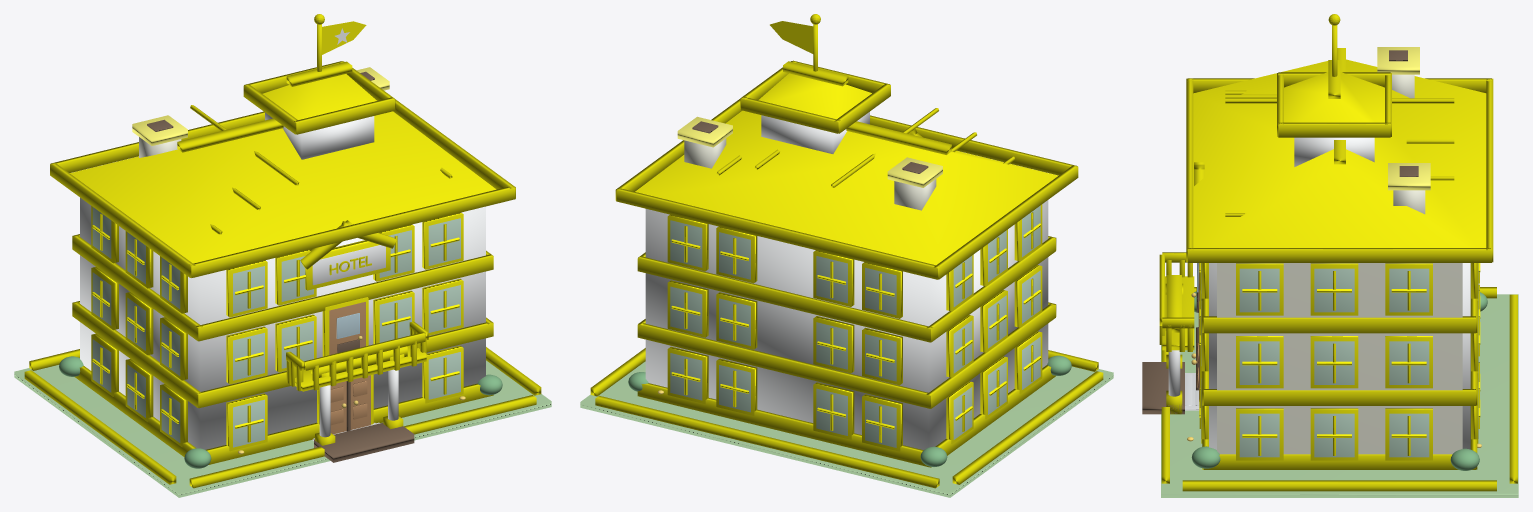
The model's file is hotel_detallado_yellow.glb.
3 renders of one model, left to right at view 1: azimuth 30°, elevation 25°; view 2: azimuth 150°, elevation 25°; view 3: azimuth 270°, elevation 25°, orthographic. The views are drawn at different scales.
Visible parts, largest first — view 1: Hotel_Techo_Principal, Hotel_Cuerpo_Principal, Hotel_Grama_Base, Hotel_Techo_Principal_Fascia_Frontal, Hotel_Zocalo_Frontal_Nivel_3, Hotel_Torre_Central_Techo, Hotel_Zocalo_Frontal_Nivel_1, Hotel_Zocalo_Frontal_Nivel_2, Hotel_Techo_Principal_Fascia_Izquierda, Hotel_Torre_Central_Pared, Hotel_Entrada_Escalon, Hotel_Zocalo_Izquierdo_Nivel_3 (+57 smaller); view 2: Hotel_Techo_Principal, Hotel_Cuerpo_Principal, Hotel_Grama_Base, Hotel_Zocalo_Trasero_Nivel_3, Hotel_Zocalo_Trasero_Nivel_2, Hotel_Techo_Principal_Fascia_Trasera, Hotel_Borde_Base_Trasero, Hotel_Zocalo_Trasero_Nivel_1, Hotel_Torre_Central_Techo, Hotel_Techo_Principal_Fascia_Izquierda, Hotel_Techo_Principal_Fascia_Frontal, Hotel_Zocalo_Izquierdo_Nivel_3 (+54 smaller); view 3: Hotel_Techo_Principal, Hotel_Pared_Lateral_Azulada, Hotel_Grama_Base, Hotel_Zocalo_Derecho_Nivel_3, Hotel_Techo_Principal_Fascia_Derecha, Hotel_Zocalo_Derecho_Nivel_2, Hotel_Torre_Central_Techo, Hotel_Borde_Base_Lateral_Derecho, Hotel_Zocalo_Derecho_Nivel_1, Hotel_Cuerpo_Principal, Hotel_Torre_Central_Techo_Fascia_Derecha, Hotel_Borde_Base_Trasero (+38 smaller).
Part boxes in pixels (x1=…): Hotel_Techo_Principal: x1=70, y1=111, x2=496, y2=263; Hotel_Cuerpo_Principal: x1=80, y1=197, x2=485, y2=449; Hotel_Grama_Base: x1=14, y1=360, x2=551, y2=497; Hotel_Techo_Principal_Fascia_Frontal: x1=189, y1=187, x2=515, y2=277; Hotel_Zocalo_Frontal_Nivel_3: x1=196, y1=254, x2=493, y2=341; Hotel_Torre_Central_Techo: x1=262, y1=74, x2=376, y2=119; Hotel_Zocalo_Frontal_Nivel_1: x1=206, y1=383, x2=493, y2=464; Hotel_Zocalo_Frontal_Nivel_2: x1=197, y1=321, x2=493, y2=408; Hotel_Techo_Principal_Fascia_Izquierda: x1=50, y1=163, x2=195, y2=277; Hotel_Torre_Central_Pared: x1=265, y1=112, x2=374, y2=159; Hotel_Entrada_Escalon: x1=314, y1=423, x2=414, y2=462; Hotel_Zocalo_Izquierdo_Nivel_3: x1=72, y1=235, x2=202, y2=340; Hotel_Techo_Principal: x1=635, y1=110, x2=1058, y2=265; Hotel_Cuerpo_Principal: x1=645, y1=200, x2=1048, y2=449; Hotel_Grama_Base: x1=580, y1=361, x2=1113, y2=497; Hotel_Zocalo_Trasero_Nivel_3: x1=637, y1=256, x2=932, y2=342; Hotel_Zocalo_Trasero_Nivel_2: x1=637, y1=323, x2=930, y2=408; Hotel_Techo_Principal_Fascia_Trasera: x1=616, y1=188, x2=937, y2=279; Hotel_Borde_Base_Trasero: x1=595, y1=395, x2=939, y2=488; Hotel_Zocalo_Trasero_Nivel_1: x1=637, y1=383, x2=930, y2=467; Hotel_Torre_Central_Techo: x1=758, y1=73, x2=871, y2=119; Hotel_Techo_Principal_Fascia_Izquierda: x1=934, y1=165, x2=1078, y2=279; Hotel_Techo_Principal_Fascia_Frontal: x1=870, y1=115, x2=1077, y2=175; Hotel_Zocalo_Izquierdo_Nivel_3: x1=927, y1=237, x2=1055, y2=342; Hotel_Techo_Principal: x1=1193, y1=59, x2=1486, y2=247; Hotel_Pared_Lateral_Azulada: x1=1217, y1=263, x2=1462, y2=454; Hotel_Grama_Base: x1=1161, y1=294, x2=1518, y2=497; Hotel_Zocalo_Derecho_Nivel_3: x1=1203, y1=316, x2=1475, y2=333; Hotel_Techo_Principal_Fascia_Derecha: x1=1187, y1=248, x2=1491, y2=262; Hotel_Zocalo_Derecho_Nivel_2: x1=1203, y1=389, x2=1475, y2=405; Hotel_Torre_Central_Techo: x1=1284, y1=72, x2=1384, y2=122; Hotel_Borde_Base_Lateral_Derecho: x1=1182, y1=480, x2=1496, y2=491; Hotel_Zocalo_Derecho_Nivel_1: x1=1203, y1=454, x2=1475, y2=469; Hotel_Cuerpo_Principal: x1=1209, y1=263, x2=1470, y2=449; Hotel_Torre_Central_Techo_Fascia_Derecha: x1=1278, y1=122, x2=1390, y2=137; Hotel_Borde_Base_Trasero: x1=1509, y1=294, x2=1517, y2=483.
Bounding box in the file's own units: 1.75 × 1.67 × 1.41.
